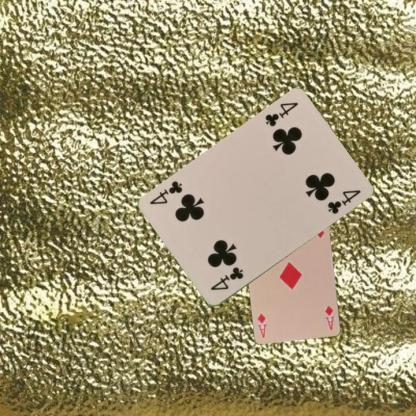4c: (207, 264, 245, 292), (262, 100, 300, 128)
Ad: (322, 302, 336, 332)
